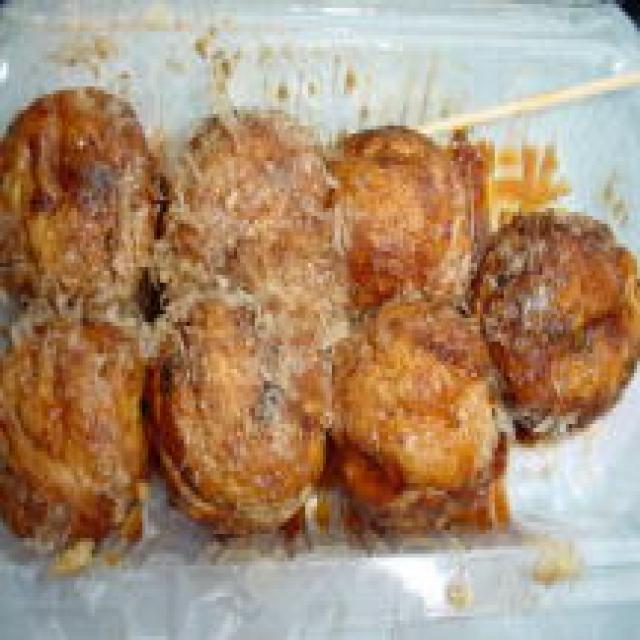炸货点心: (0, 59, 640, 573)
